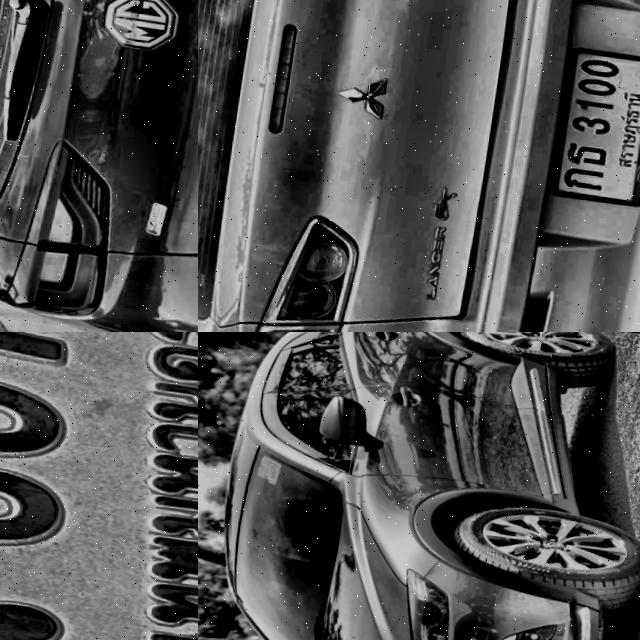license-plate: (0, 332, 198, 640), (550, 36, 640, 199)
